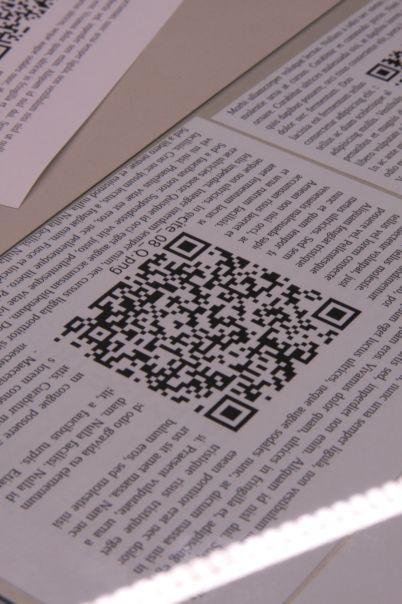Finder pattern: (197, 395, 261, 436), (305, 295, 364, 332), (158, 230, 213, 264)
